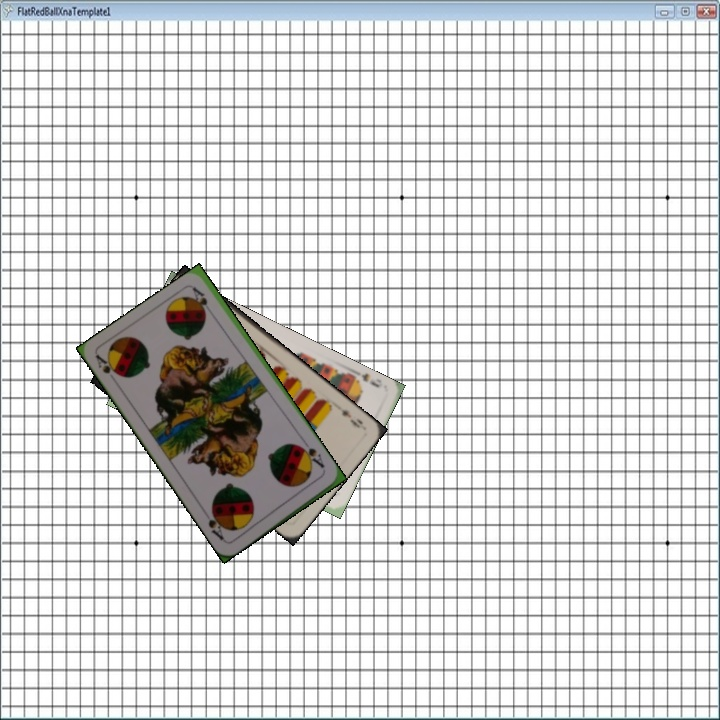E9: (337, 406, 365, 431)
S9: (347, 366, 382, 390)
SA: (295, 438, 327, 471), (92, 351, 124, 380)
